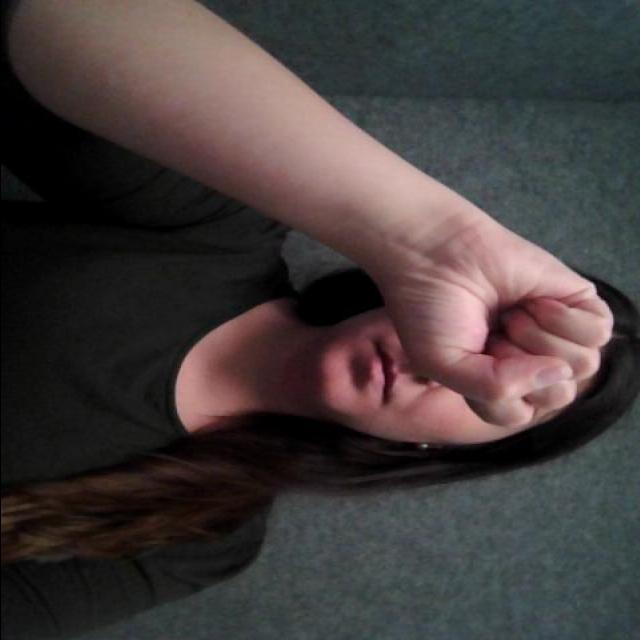Rock: (370, 215, 616, 437)
